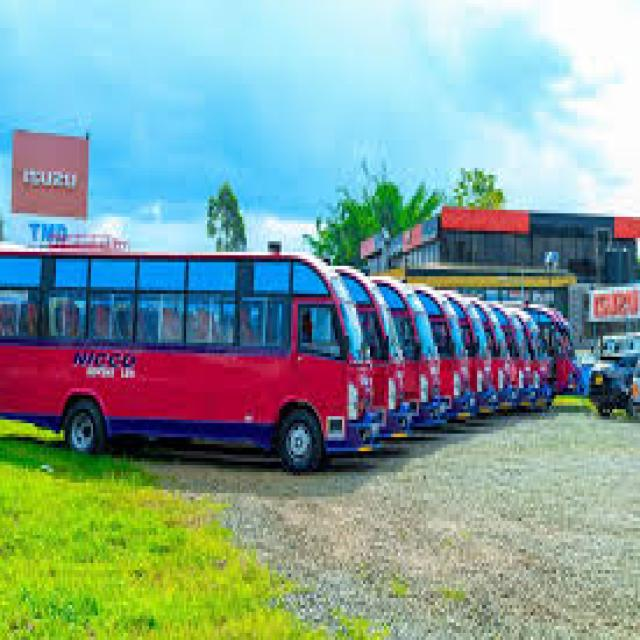bus: (0, 185, 382, 528)
